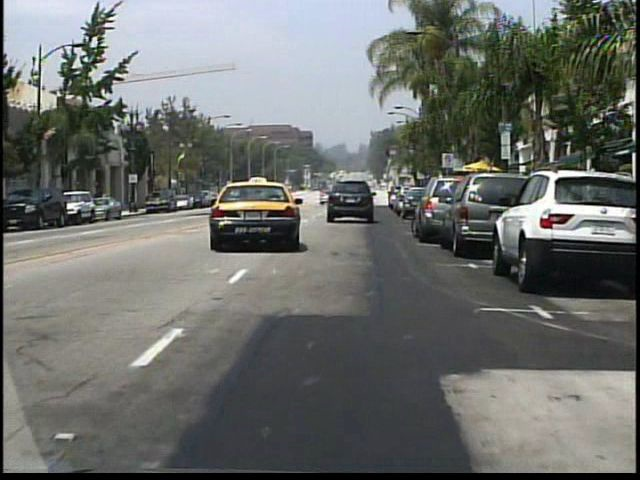person: (94, 188, 105, 198), (103, 190, 111, 199)
